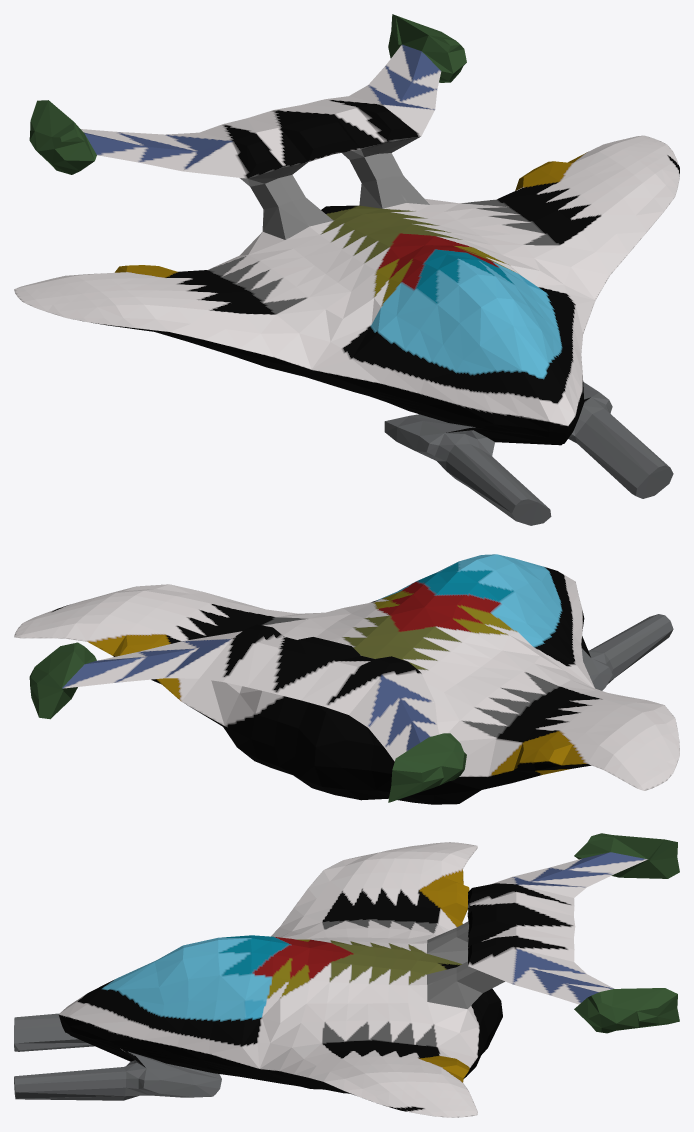
File: spaceship 7 with texture 4.FBX
3 renders of one model, top to bottom at view 1: azimuth 30°, elevation 25°; view 2: azimuth 150°, elevation 25°; view 3: azimuth 270°, elevation 25°, orthographic. The views are drawn at different scales.
Visible parts, largest first — view 1: Object002; view 2: Object002; view 3: Object002.
Boxes of the visible parts, x1,y1,x2,y2 form: Object002: (14,14,679,525); Object002: (14,554,679,804); Object002: (14,833,679,1117).
Size of the model in its own units: 143 by 39 by 146.
